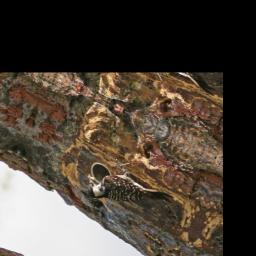Woodpecker: (82, 148, 177, 232)
